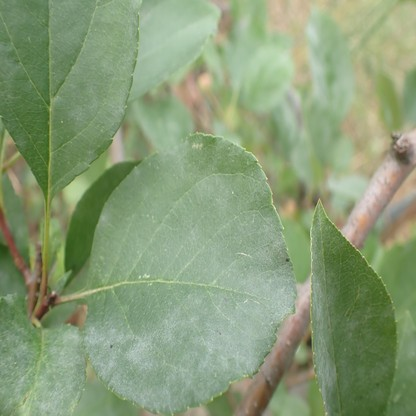powder: (0, 3, 140, 206), (83, 294, 297, 415), (204, 140, 297, 298), (3, 293, 82, 414), (345, 283, 395, 404), (311, 222, 337, 400), (156, 140, 188, 181), (100, 212, 106, 224)
